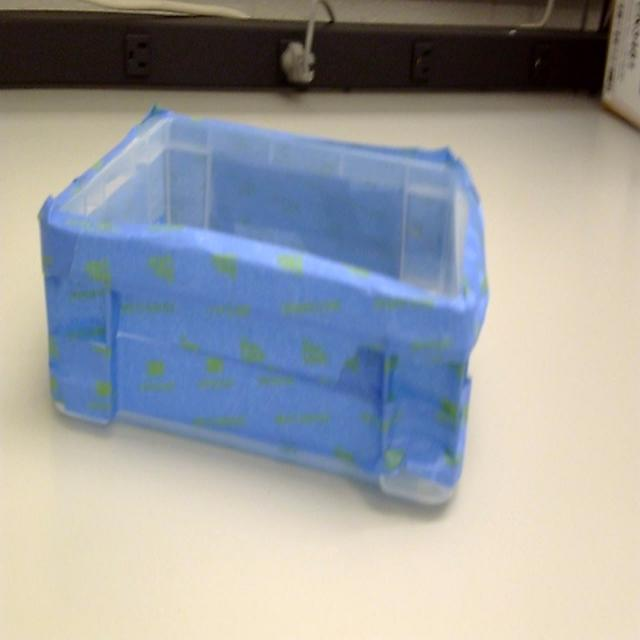bucket: (36, 108, 490, 514)
